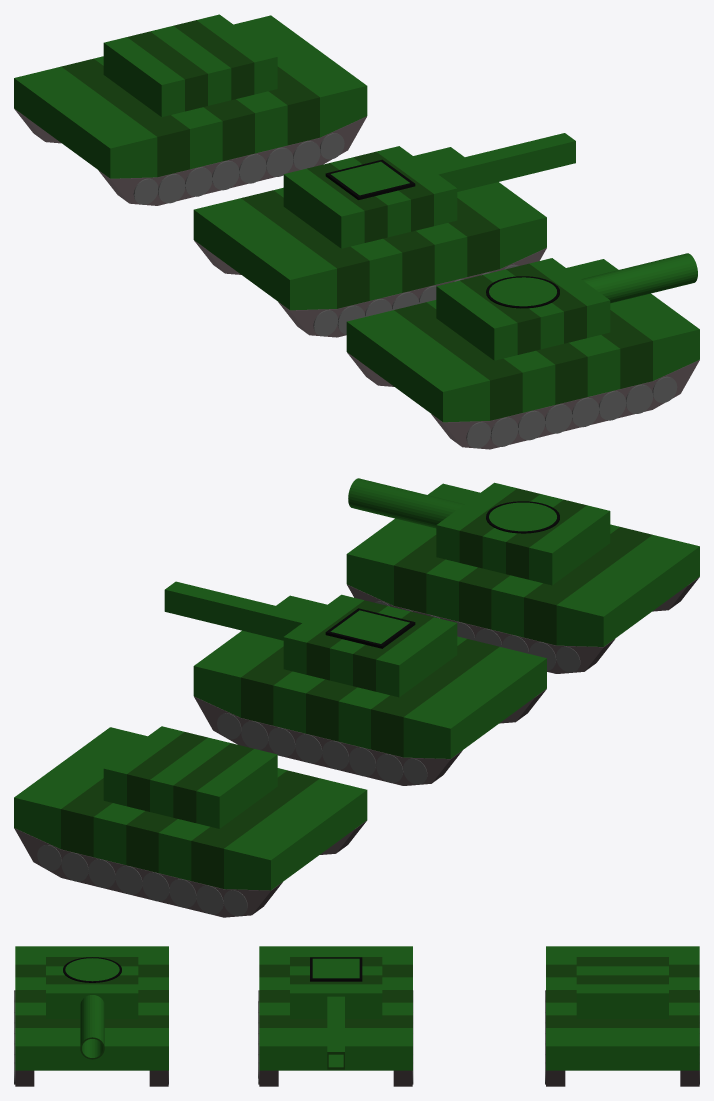
File: Tanks.fbx
The picture shows the model from 3 angles, top to bottom: view 1: azimuth 30°, elevation 25°; view 2: azimuth 150°, elevation 25°; view 3: azimuth 270°, elevation 25°; orthographic projection. The views are drawn at different scales.
Parts seen in each view (by area): view 1: Tank.002, Tank, Tank.001; view 2: Tank.001, Tank, Tank.002; view 3: Tank.001, Tank, Tank.002.
Boxes of the visible parts, x1,y1,x2,y2 form: Tank.002: (346,253,699,449); Tank: (14,14,367,205); Tank.001: (193,133,575,337); Tank.001: (164,581,546,785); Tank: (14,726,367,917); Tank.002: (346,478,699,673); Tank.001: (258,946,413,1086); Tank: (545,946,699,1086); Tank.002: (14,946,168,1086).
Bounding box in the file's own units: 38.66 × 5.16 × 17.06.
